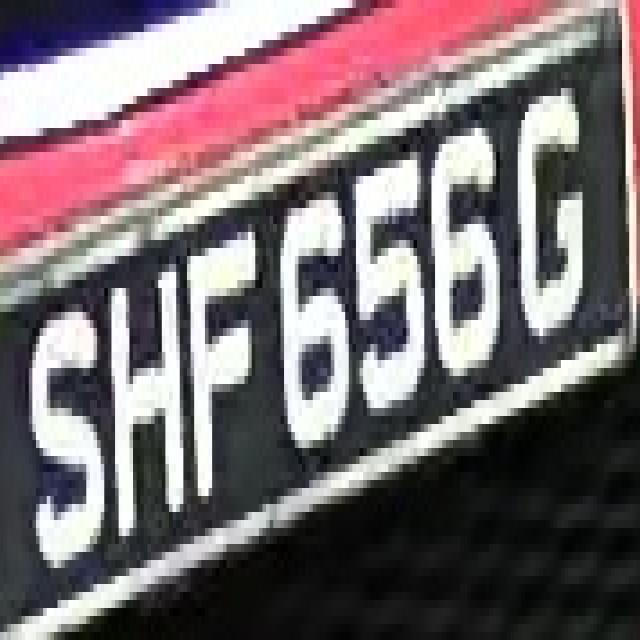5: (342, 128, 435, 456)
6: (428, 96, 507, 384), (277, 200, 349, 464)
F: (187, 224, 262, 504)
G: (504, 88, 594, 368)
H: (104, 240, 187, 528)
S: (25, 288, 104, 568)
